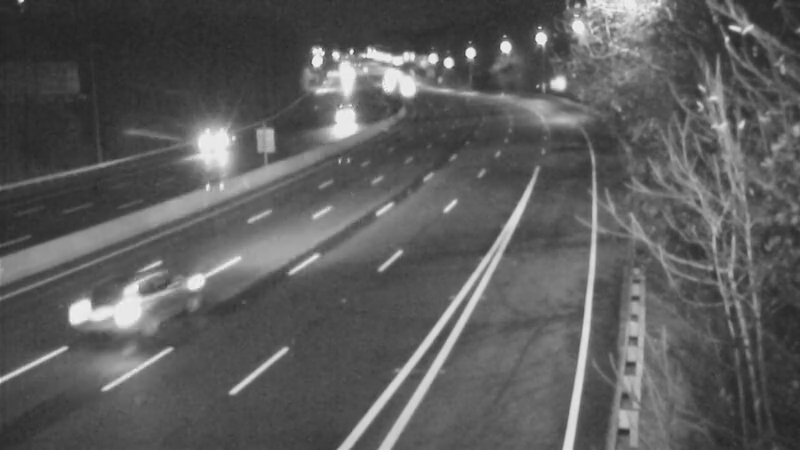vehicle: (66, 248, 176, 358), (376, 62, 426, 112), (185, 112, 235, 162), (319, 92, 369, 142)
